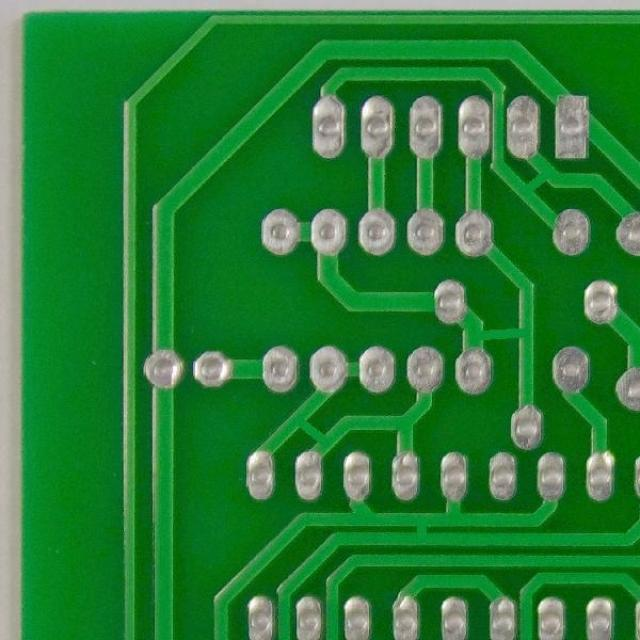Short_Circuit: (458, 314, 538, 352), (294, 406, 332, 452), (515, 159, 552, 205), (406, 508, 440, 551)
